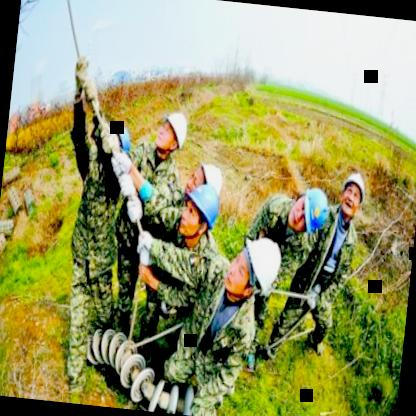helmet: (222, 224, 290, 312), (169, 174, 226, 246), (151, 106, 191, 160), (294, 184, 328, 236), (183, 160, 227, 200), (336, 168, 367, 222), (99, 117, 132, 161)
